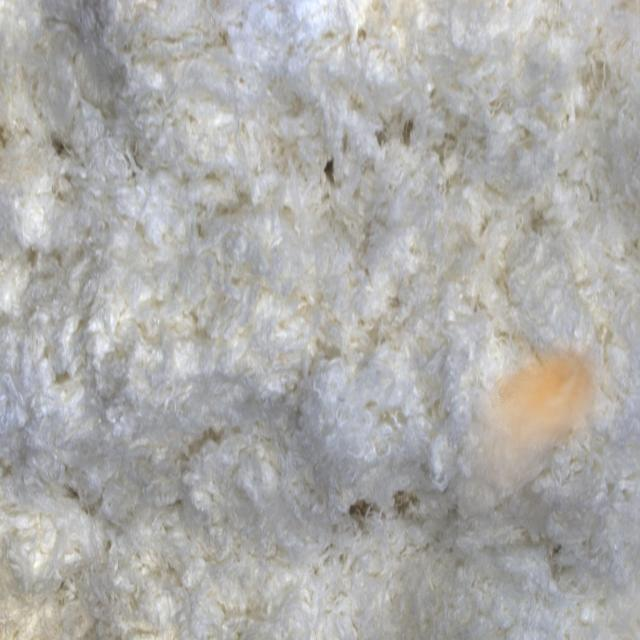dust: (458, 333, 633, 544)
